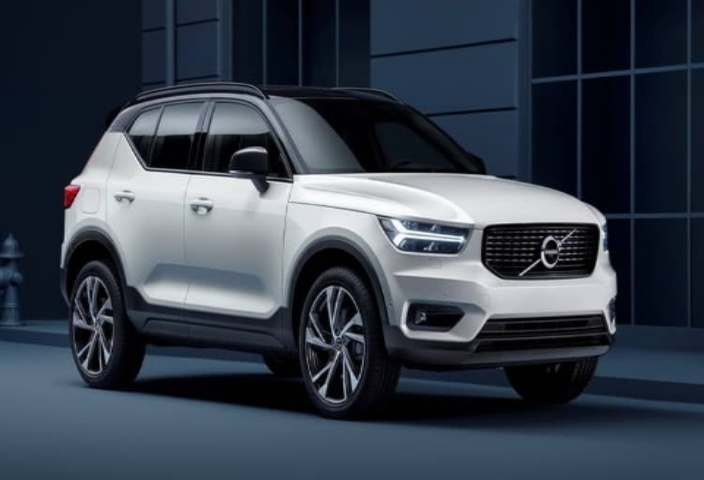camper: (31, 66, 622, 421)
